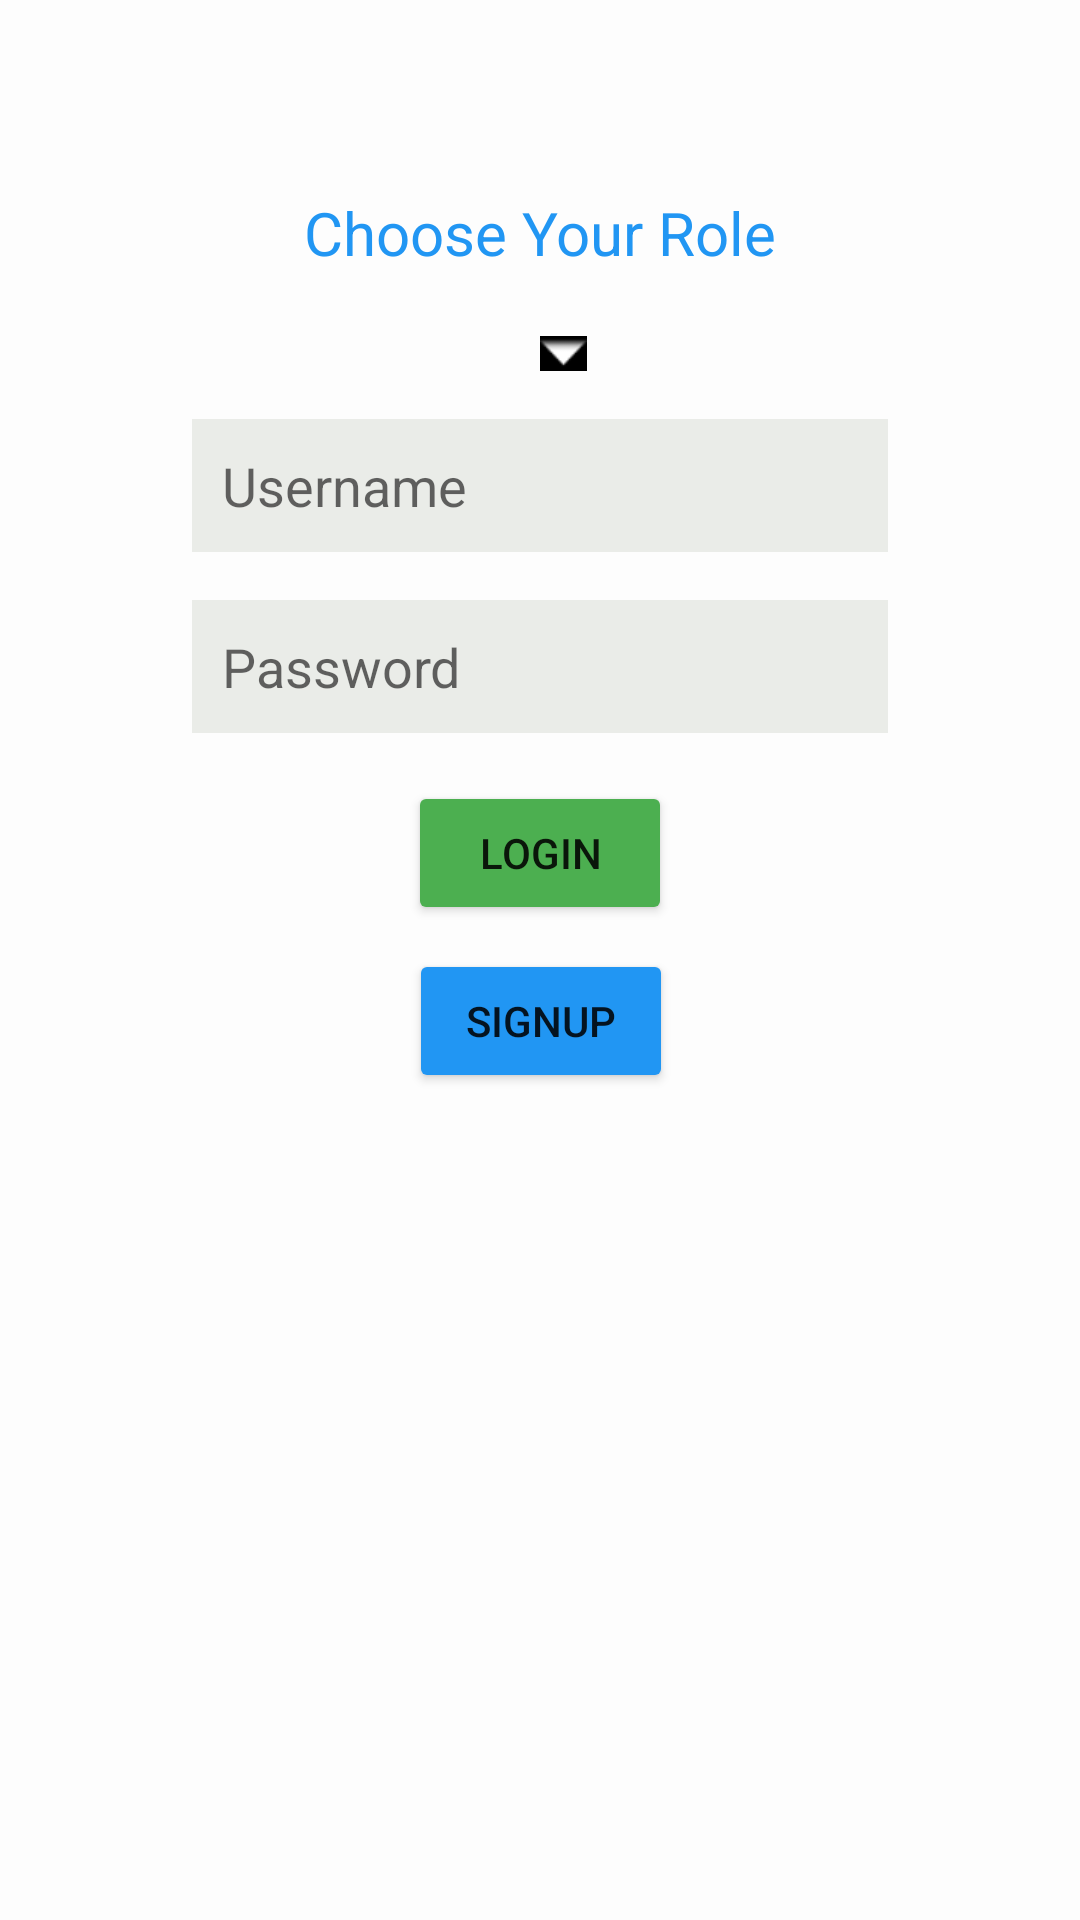

Icons on this 1080×1920 Android screen, each with the point to tap as (x,y):
arrow down float: (563,353)
